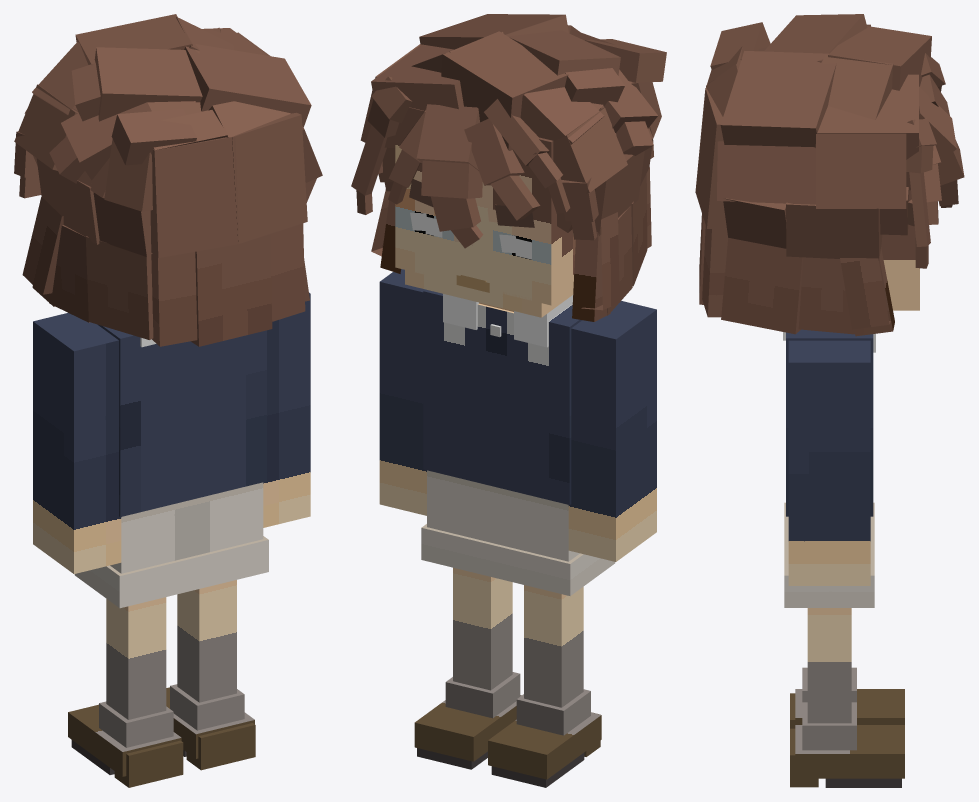
3 views of the same model, side by side, from view 1: azimuth 30°, elevation 25°; view 2: azimuth 150°, elevation 25°; view 3: azimuth 270°, elevation 25° (orthographic).
Parts seen in each view (by area): view 1: body, leftLeg (×6), leftArm, rightLeg (×6), bone52, rightArm, bone8, bone38, bone4, bone55, bone50, bone7 (+20 smaller); view 2: body (×3), leftLeg (×6), leftArm, rightLeg (×6), head (×2), rightArm, bone21, bone26, bone24, bone42, bone63, bone4 (+25 smaller); view 3: rightArm, rightLeg (×6), bone4, bone23, bone34, bone30, bone31, bone32, bone24, bone21, bone6, bone55 (+17 smaller).
Boxes of the visible parts, x1=… form: body: x1=97, y1=324, x2=266, y2=516; leftLeg (×6): x1=68, y1=500, x2=197, y2=787; leftArm: x1=33, y1=313, x2=121, y2=573; rightLeg (×6): x1=166, y1=482, x2=268, y2=770; bone52: x1=150, y1=136, x2=239, y2=257; rightArm: x1=263, y1=292, x2=310, y2=527; bone8: x1=232, y1=112, x2=307, y2=243; bone38: x1=191, y1=234, x2=272, y2=346; bone4: x1=184, y1=44, x2=311, y2=127; bone55: x1=94, y1=47, x2=202, y2=121; bone50: x1=85, y1=236, x2=153, y2=339; bone7: x1=151, y1=252, x2=197, y2=346; body (×3): x1=423, y1=289, x2=581, y2=504; leftLeg (×6): x1=488, y1=487, x2=615, y2=787; leftArm: x1=568, y1=300, x2=656, y2=561; rightLeg (×6): x1=414, y1=470, x2=521, y2=769; head (×2): x1=395, y1=107, x2=573, y2=317; rightArm: x1=379, y1=269, x2=426, y2=515; bone21: x1=441, y1=31, x2=568, y2=150; bone26: x1=553, y1=107, x2=627, y2=193; bone24: x1=371, y1=44, x2=463, y2=147; bone42: x1=520, y1=87, x2=603, y2=144; bone63: x1=416, y1=104, x2=479, y2=170; bone4: x1=419, y1=14, x2=568, y2=49; rightArm: x1=788, y1=340, x2=870, y2=585; rightLeg (×6): x1=784, y1=541, x2=904, y2=787; bone4: x1=720, y1=51, x2=836, y2=147; bone23: x1=816, y1=133, x2=906, y2=208; bone34: x1=721, y1=238, x2=803, y2=334; bone30: x1=717, y1=141, x2=815, y2=204; bone31: x1=786, y1=202, x2=882, y2=260; bone32: x1=798, y1=257, x2=863, y2=335; bone24: x1=815, y1=74, x2=918, y2=190; bone21: x1=828, y1=26, x2=931, y2=90; bone6: x1=823, y1=54, x2=893, y2=119; bone55: x1=764, y1=14, x2=867, y2=62.
Bounding box in the file's own units: 0.6436 × 1.8 × 0.6146.
1 material, 1 textured.
